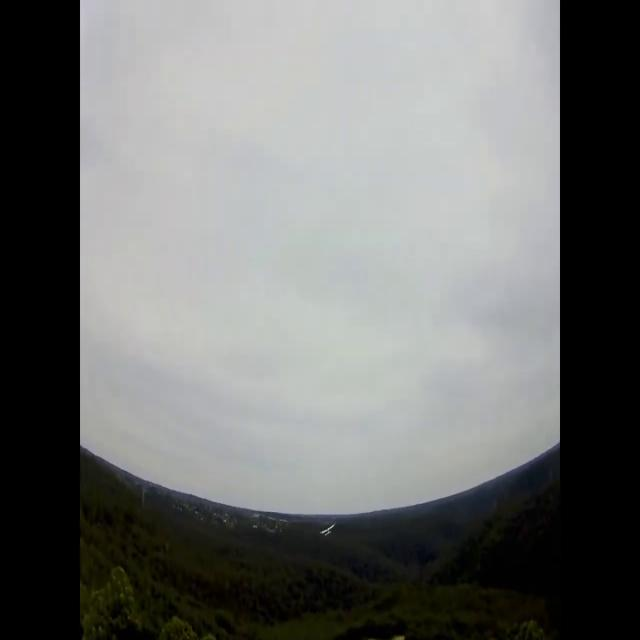iha: (315, 524, 328, 538)
